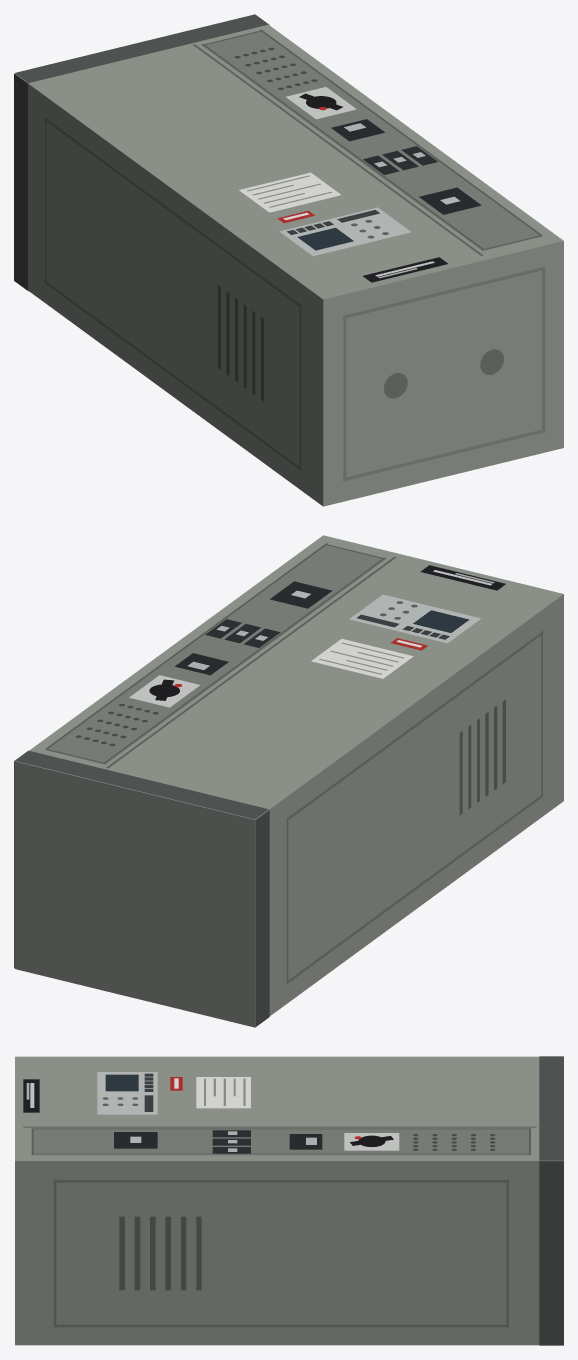
Rendered from cabinet.obj.
3 views of the same model, one above another, from view 1: azimuth 30°, elevation 25°; view 2: azimuth 150°, elevation 25°; view 3: azimuth 270°, elevation 25° (orthographic). The views are drawn at different scales.
Size of the model in its own units: 0.908 by 0.754 by 2.
1 material, 1 textured.
